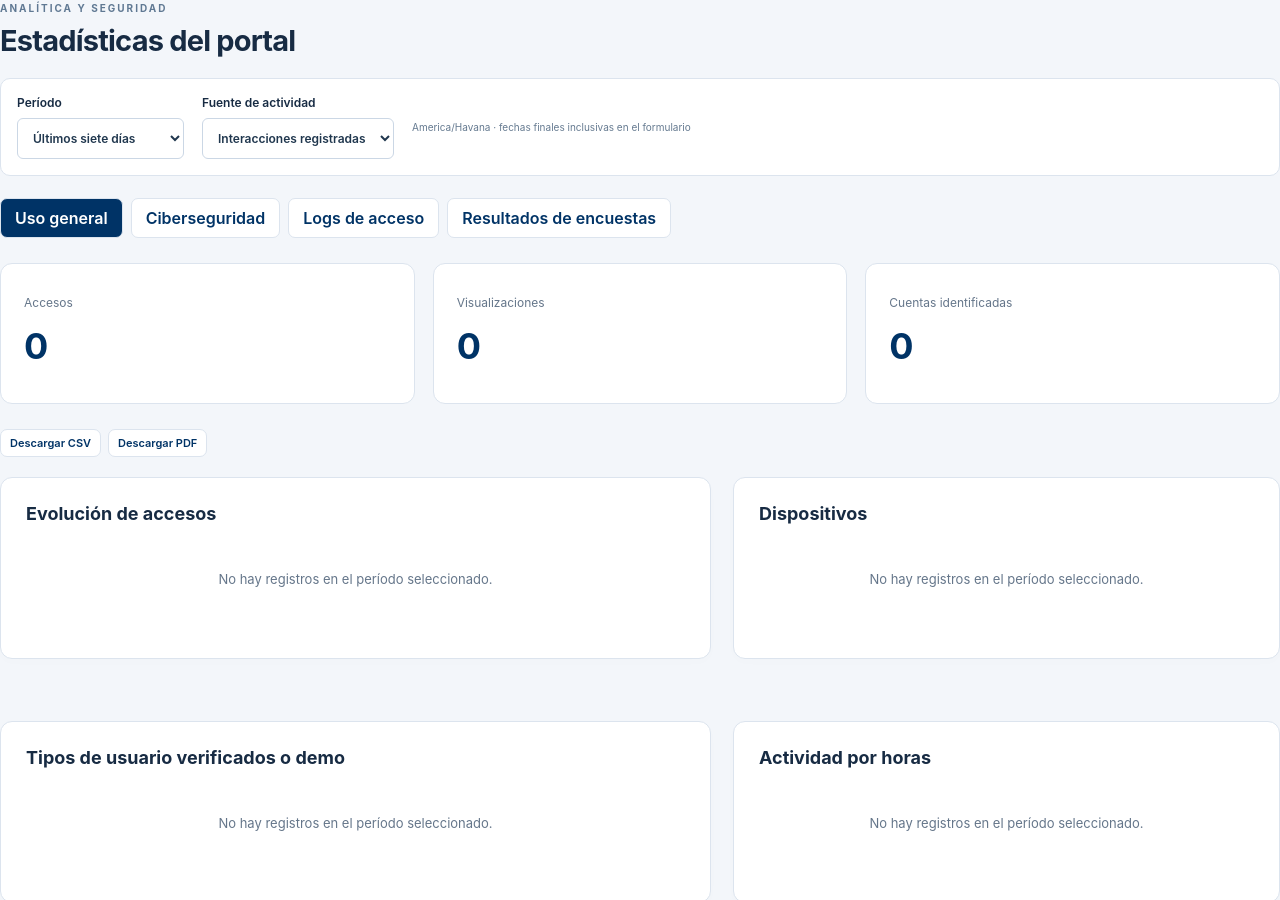
Test case: los resultados distinguen envíos e identidades y restringen la consulta abierta a su API
The width and height of the screenshot is (1280, 900).
Click the tab "Resultados de encuestas" at (559, 218), box [447,198,671,238]
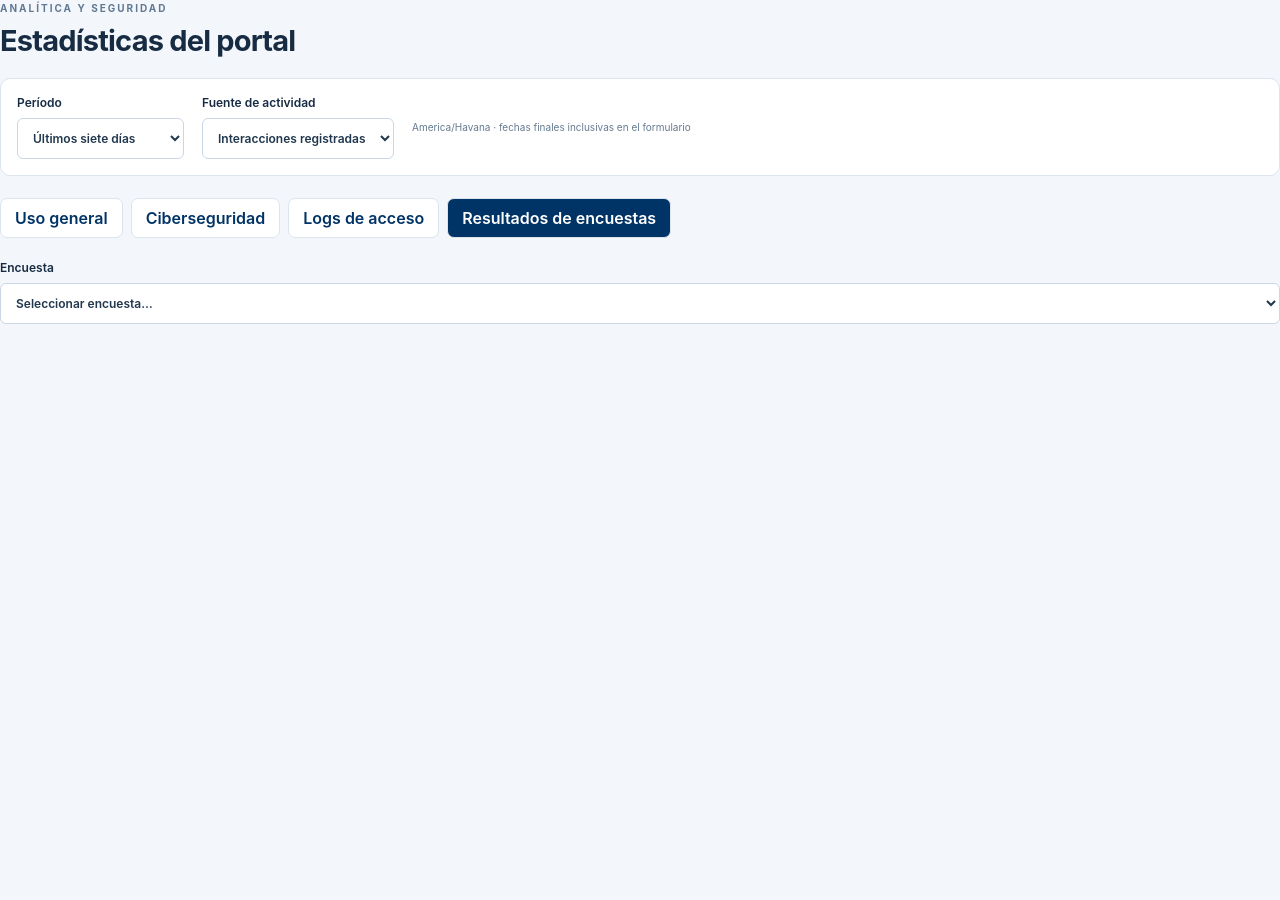
Select "Encuesta real" in the dropdown labelled "Encuesta" at (640, 304), box [0,283,1279,324]
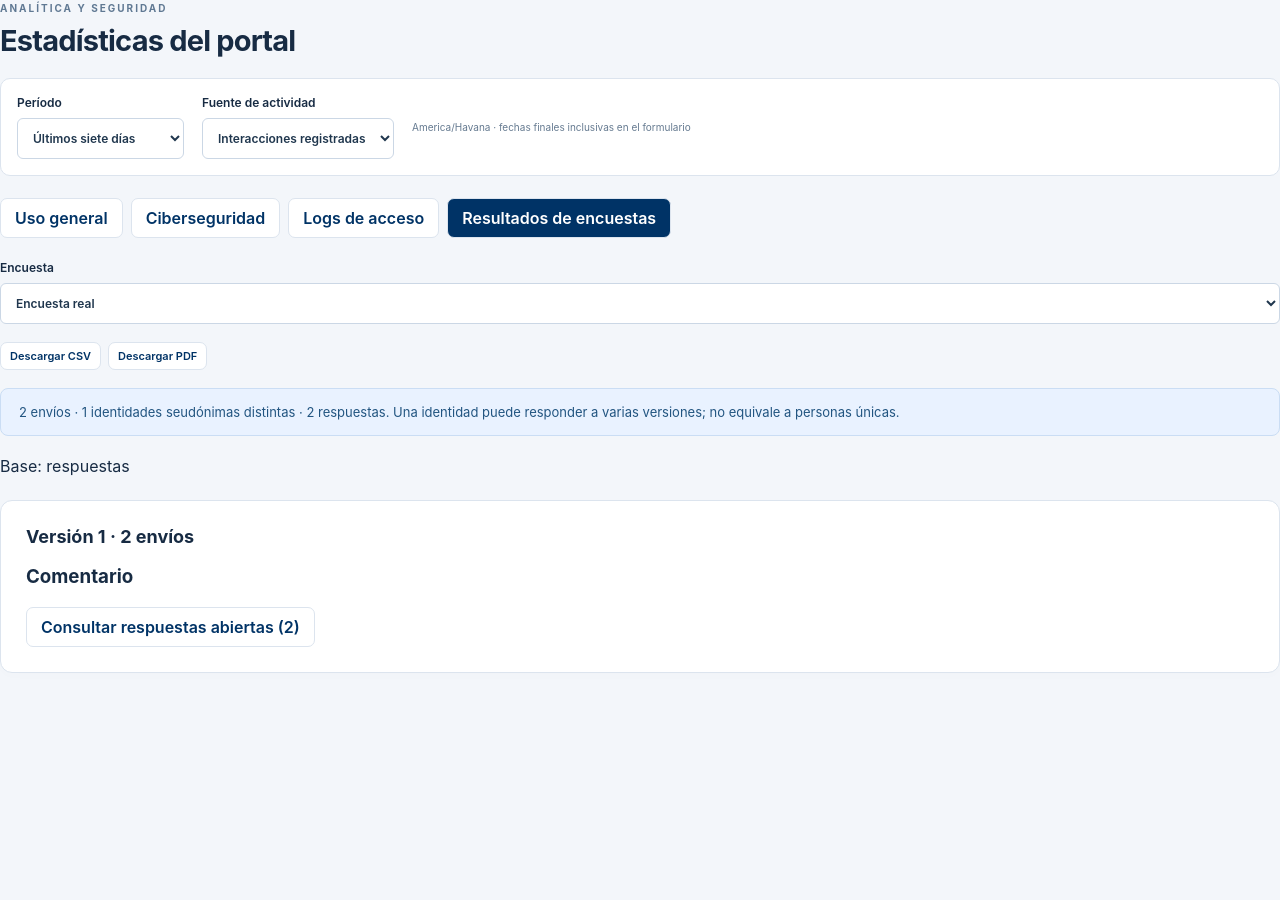
Expected: the text "2 envíos · 1 identidades seudónimas distintas" is shown, [0,388,1279,436]
Click the button "Consultar respuestas abiertas (2)" at (170, 627), box [26,607,315,647]
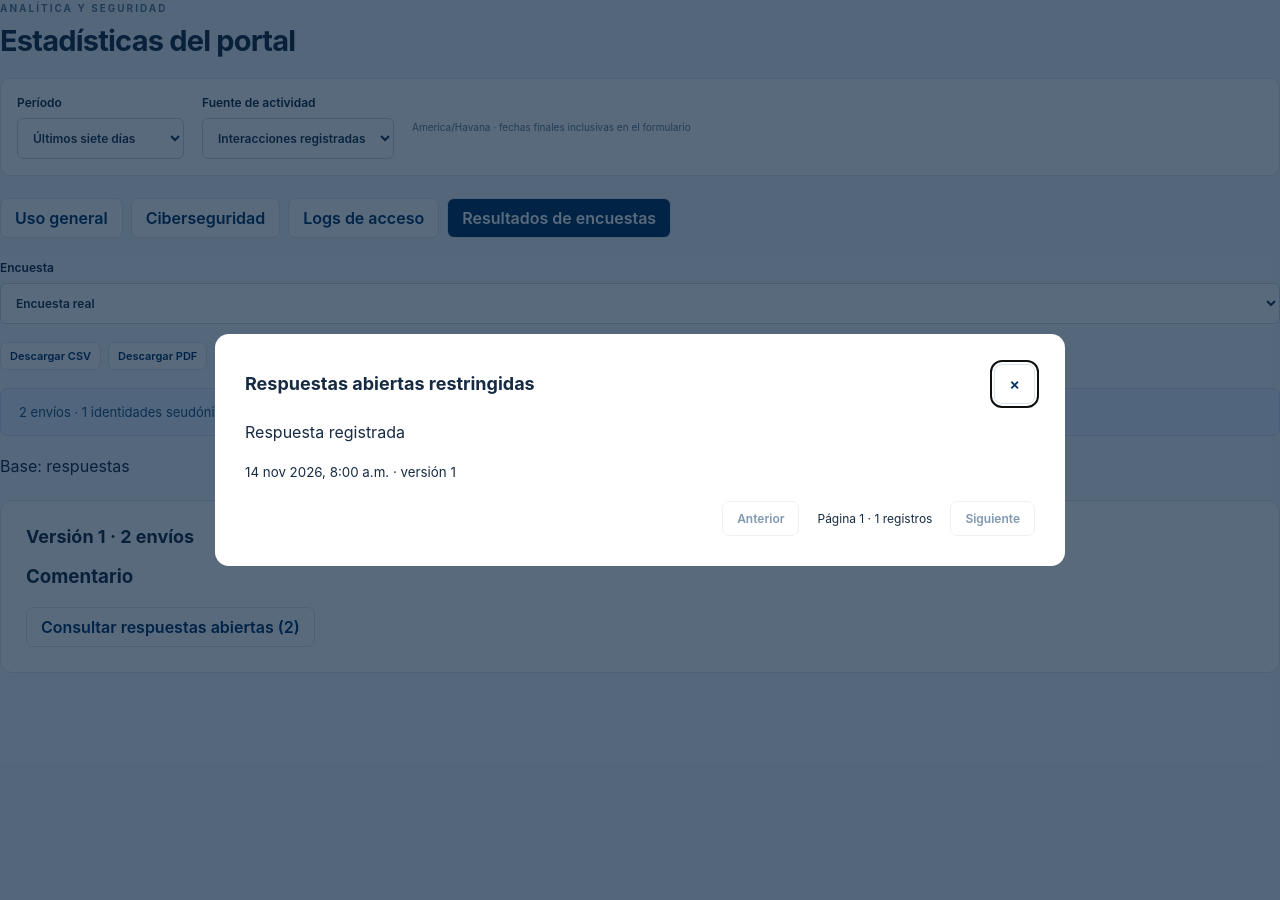
Expected: the text "Respuesta registrada" is shown, [245,422,405,442]
